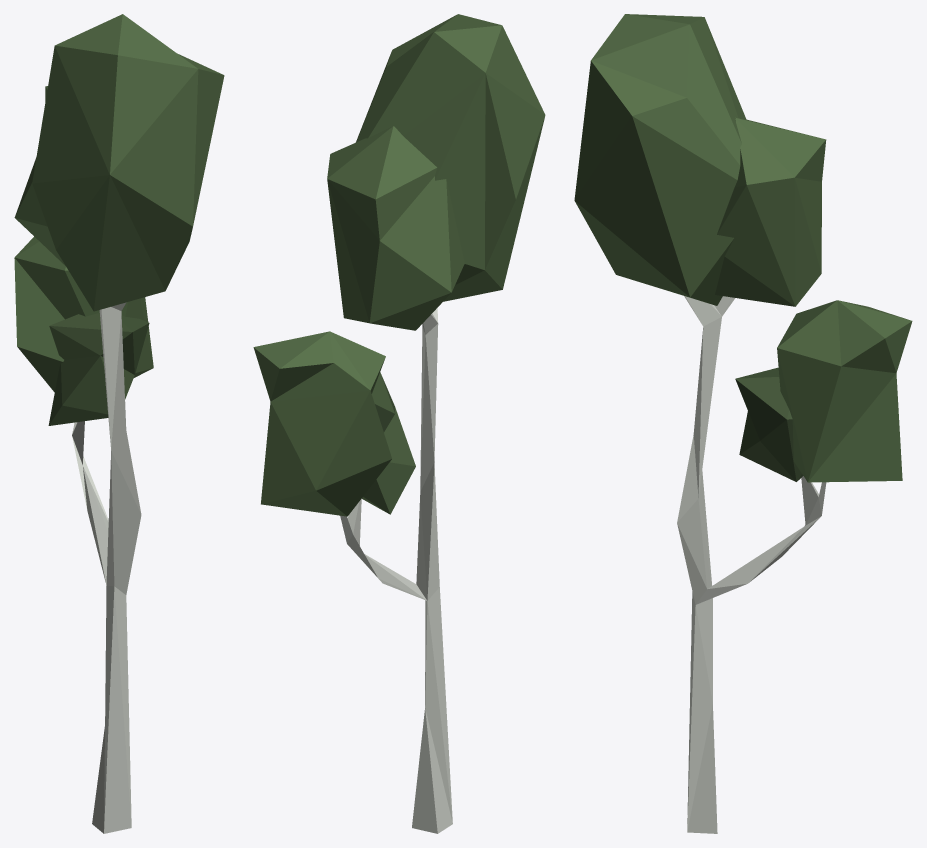
Rendered from BirchTree_5.lod3.glb.
3 renders of one model, left to right at view 1: azimuth 30°, elevation 25°; view 2: azimuth 150°, elevation 25°; view 3: azimuth 270°, elevation 25°, orthographic. The views are drawn at different scales.
Parts seen in each view (by area): view 1: BirchTree_5; view 2: BirchTree_5; view 3: BirchTree_5.
Part boxes in pixels (box(x1,y1,x2,y2)): BirchTree_5: box(14, 14, 224, 833); BirchTree_5: box(253, 14, 545, 833); BirchTree_5: box(574, 14, 912, 833).
Size of the model in its own units: 1.15 by 4.99 by 1.9.
